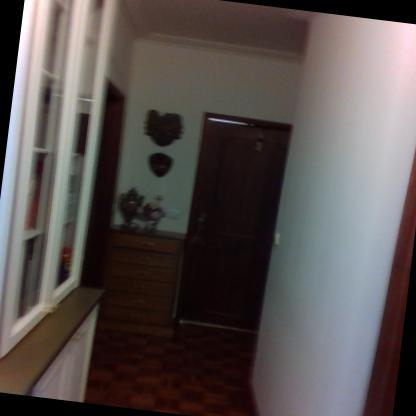closed: (168, 106, 302, 342)
